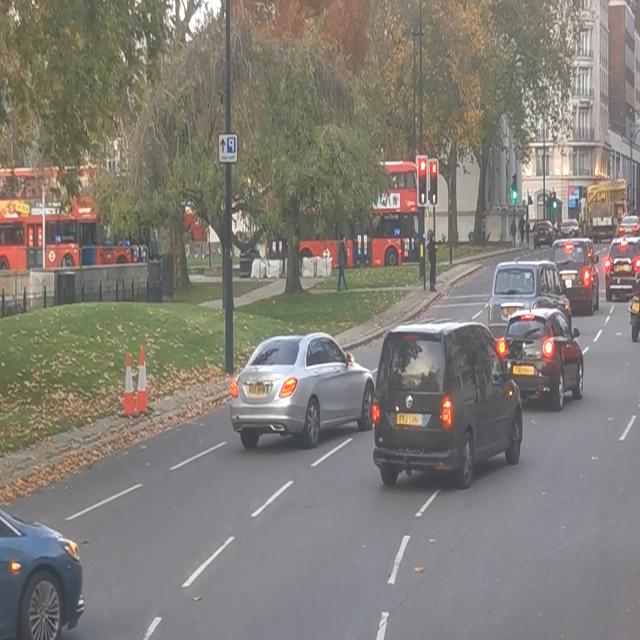Vehicle: (371, 320, 525, 491), (225, 329, 372, 441), (494, 304, 584, 410), (479, 256, 576, 338), (546, 235, 601, 317), (604, 234, 640, 304)
